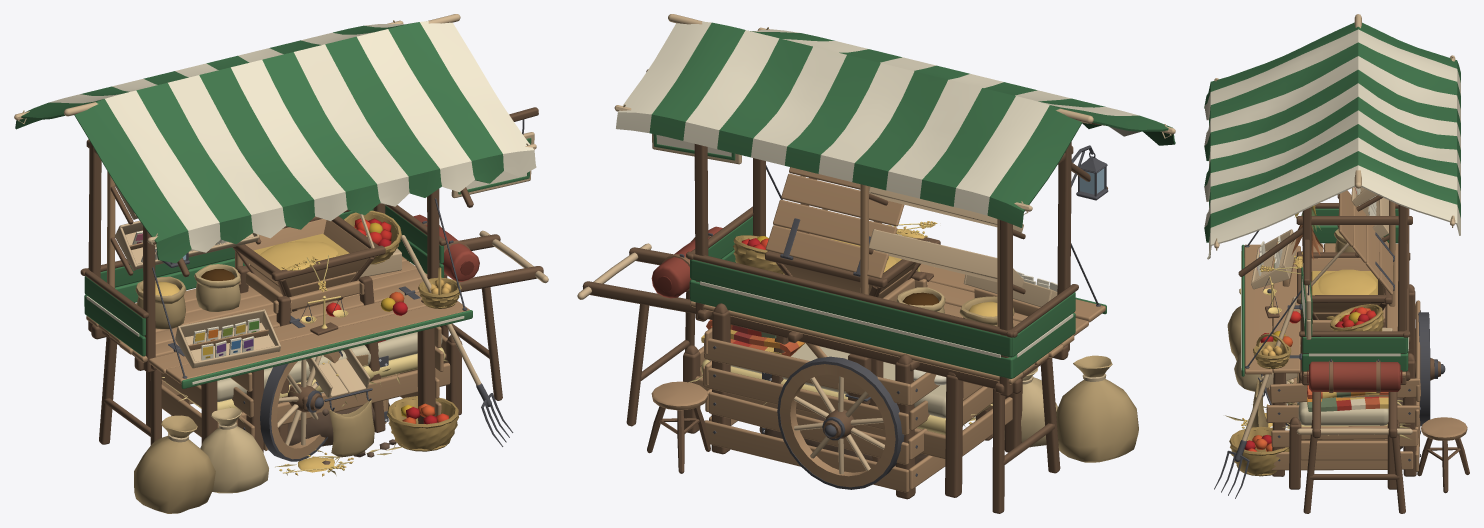
The model's file is market.glb.
3 views of the same model, side by side, from view 1: azimuth 30°, elevation 25°; view 2: azimuth 150°, elevation 25°; view 3: azimuth 270°, elevation 25° (orthographic). The views are drawn at different scales.
Visible parts, largest first — view 1: peddler_stall, mill_hopper, hay_bed, compost_bay, compost_heap; view 2: peddler_stall, compost_bay, mill_hopper, hay_bed; view 3: peddler_stall, mill_hopper, compost_bay, hay_bed.
Part boxes in pixels (x1=…): peddler_stall: x1=14, y1=14, x2=548, y2=513; mill_hopper: x1=232, y1=213, x2=385, y2=476; hay_bed: x1=146, y1=332, x2=462, y2=444; compost_bay: x1=171, y1=235, x2=513, y2=475; compost_heap: x1=242, y1=401, x2=389, y2=446; peddler_stall: x1=577, y1=14, x2=1175, y2=513; compost_bay: x1=702, y1=303, x2=992, y2=499; mill_hopper: x1=765, y1=167, x2=975, y2=461; hay_bed: x1=683, y1=319, x2=1022, y2=497; peddler_stall: x1=1204, y1=14, x2=1469, y2=513; mill_hopper: x1=1241, y1=190, x2=1394, y2=428; compost_bay: x1=1214, y1=284, x2=1420, y2=498; hay_bed: x1=1282, y1=350, x2=1411, y2=489.
Size of the model in its own units: 3.35 by 2.6 by 1.92.
